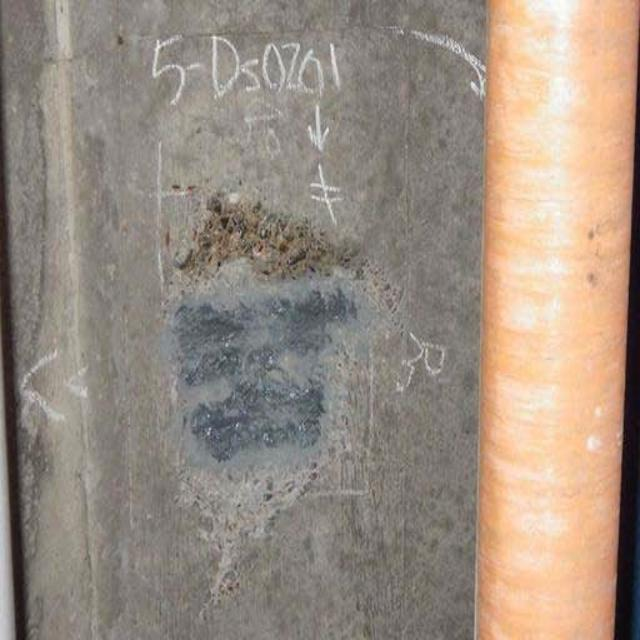spalling: (174, 173, 370, 308)
